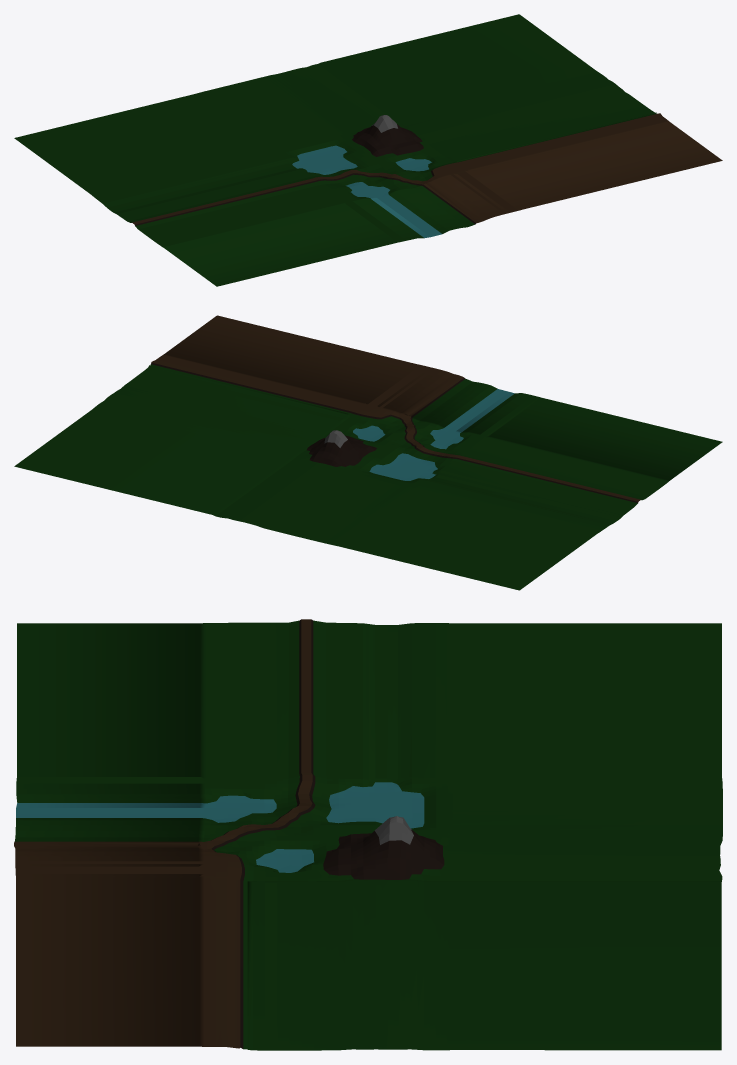
The model's file is Terreno.obj.
3 views of the same model, one above another, from view 1: azimuth 30°, elevation 25°; view 2: azimuth 150°, elevation 25°; view 3: azimuth 270°, elevation 25° (orthographic). The views are drawn at different scales.
Visible parts, largest first — view 1: Plano; view 2: Plano; view 3: Plano.
Boxes of the visible parts, bbox=[...] form: Plano: bbox=[14, 14, 722, 286]; Plano: bbox=[14, 315, 722, 590]; Plano: bbox=[14, 619, 722, 1050].
Bounding box in the file's own units: 1470 × 74.77 × 1023.
